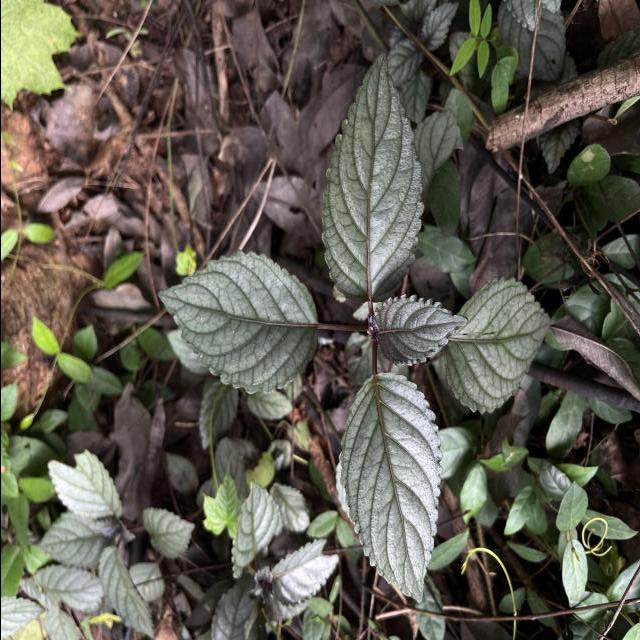Hemigraphis colorata: (317, 43, 426, 308), (152, 246, 322, 396), (335, 370, 443, 605), (438, 270, 554, 418), (371, 291, 472, 370), (227, 475, 286, 583), (94, 542, 158, 638)
